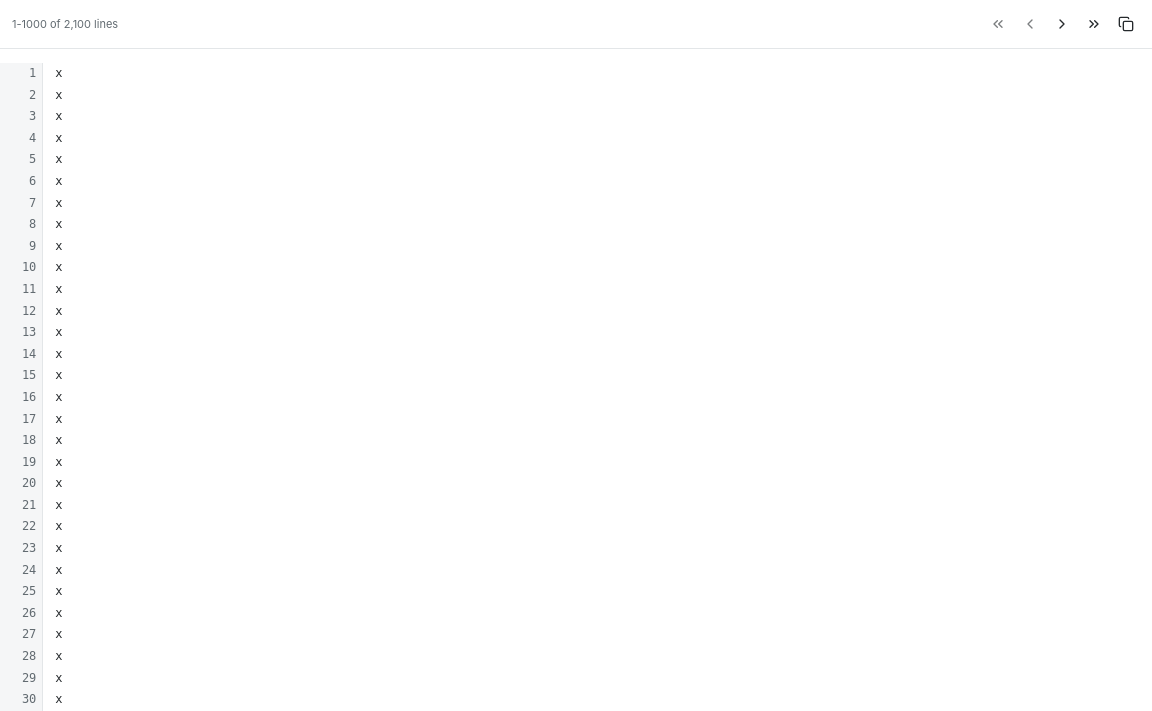
Test: copies the complete content rather than just the visible page and reports clipboard failure
The width and height of the screenshot is (1152, 711).
Click the button named "Copy full content" at (1126, 24), box [1112,8,1140,40]
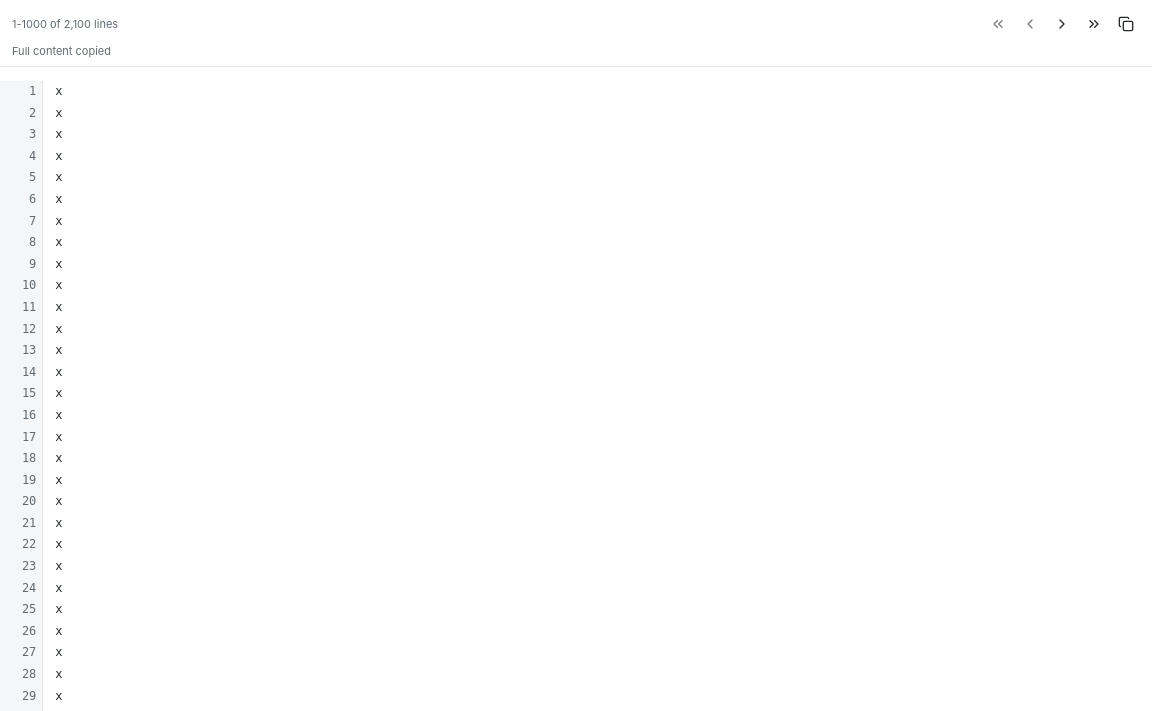
Click the button named "Copy full content" at (1126, 24), box [1112,8,1140,40]
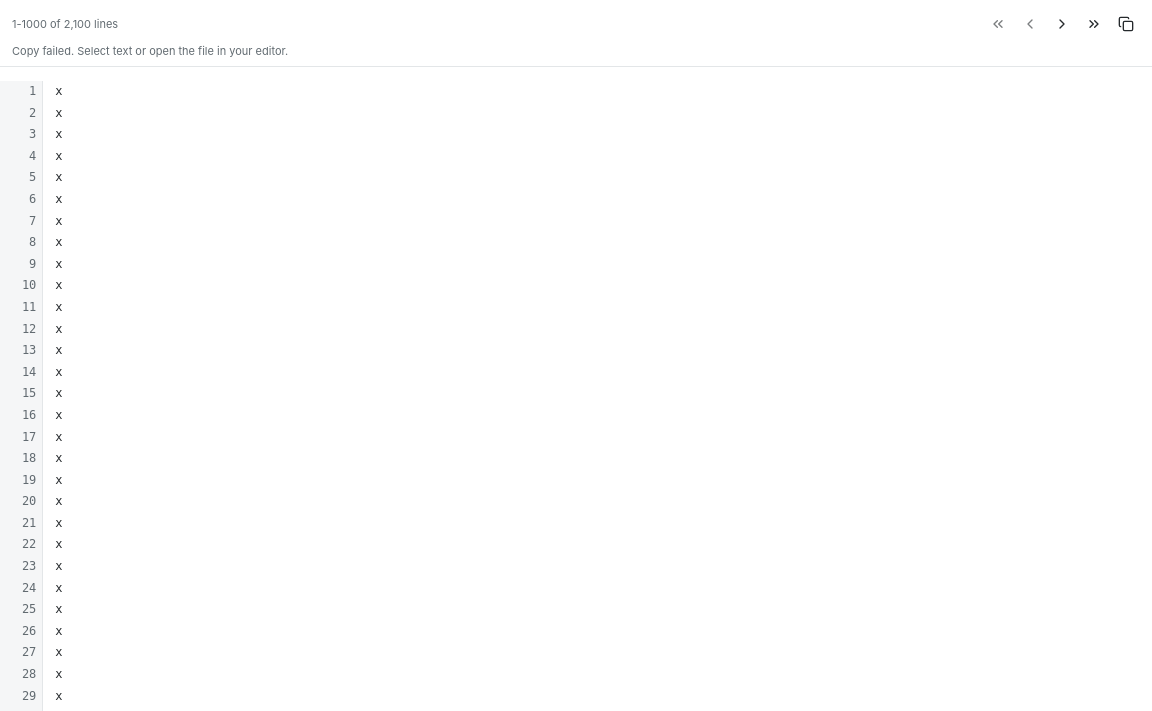
Result: the message shows "Copy failed" at [12,44,288,58]
